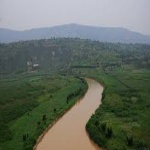River: (38, 76, 113, 150)
